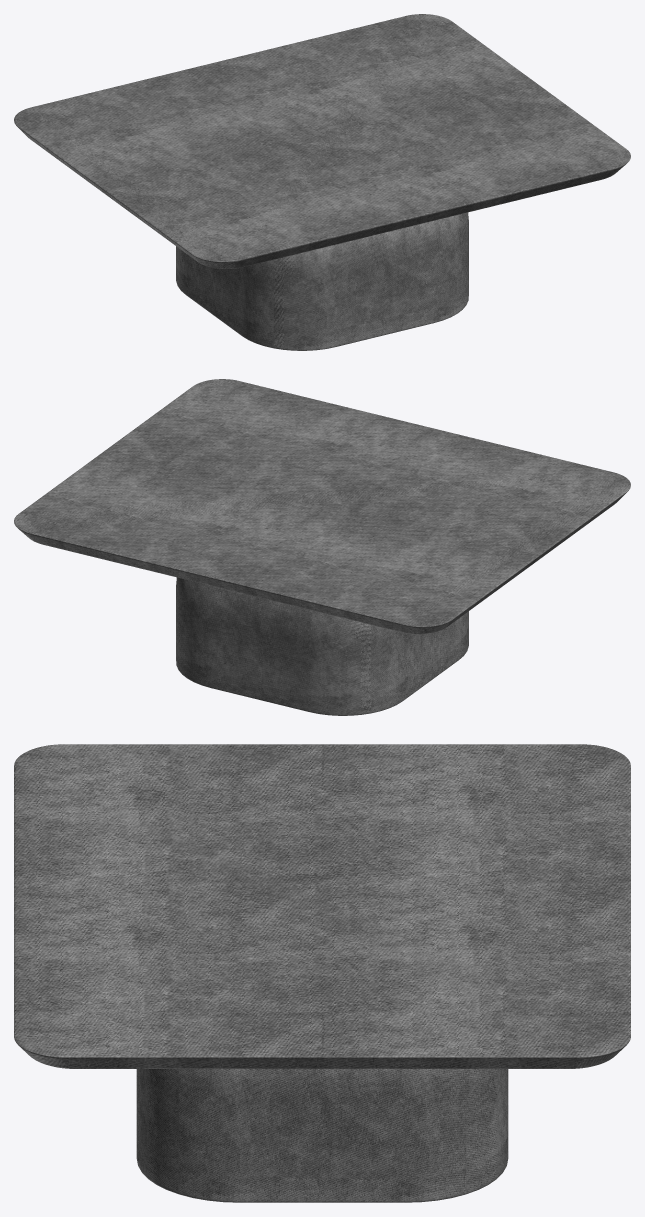
The model's file is mesasala.obj.
3 views of the same model, one above another, from view 1: azimuth 30°, elevation 25°; view 2: azimuth 150°, elevation 25°; view 3: azimuth 270°, elevation 25° (orthographic). The views are drawn at different scales.
Visible parts, largest first — view 1: Nikari_side_table; view 2: Nikari_side_table; view 3: Nikari_side_table.
Part boxes in pixels (x1,y1,x2,y2): Nikari_side_table: [14, 14, 630, 350]; Nikari_side_table: [14, 379, 630, 715]; Nikari_side_table: [14, 744, 630, 1202].
Size of the model in its own units: 5.98 by 2 by 4.98.
1 material, 1 textured.
